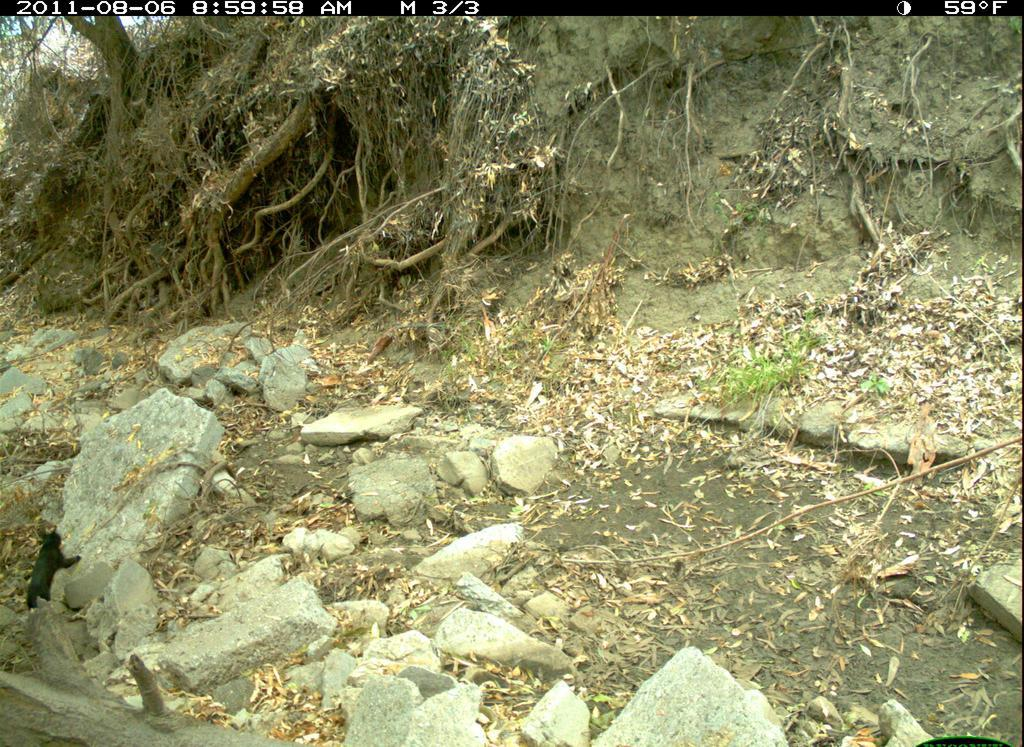cat: (18, 520, 85, 625)
